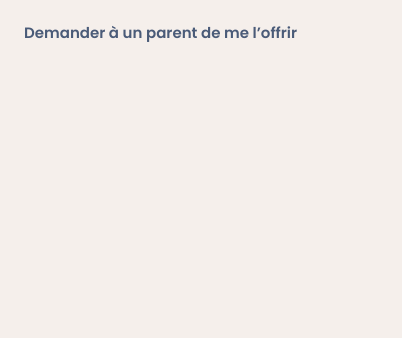
Test: demander à un parent, par message › sur ordinateur : le message se copie
Step 1. Click the button "Demander à un parent de me l’offrir" → [160, 32], box [12,12,309,52]
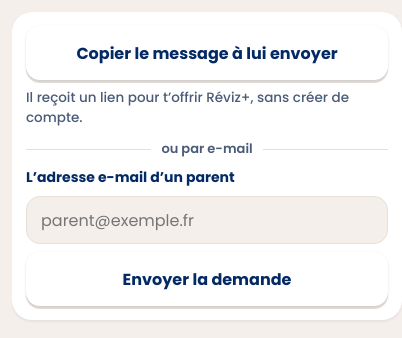
Step 2. Click the button "Copier le message à lui envoyer" → [207, 53], box [26,26,388,80]
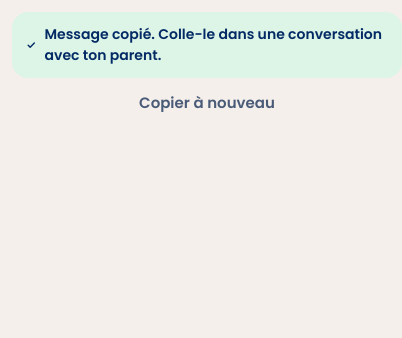
Check: the text "Message copié. Colle-le dans une conversation avec ton parent." is shown, box [12,12,401,78]
